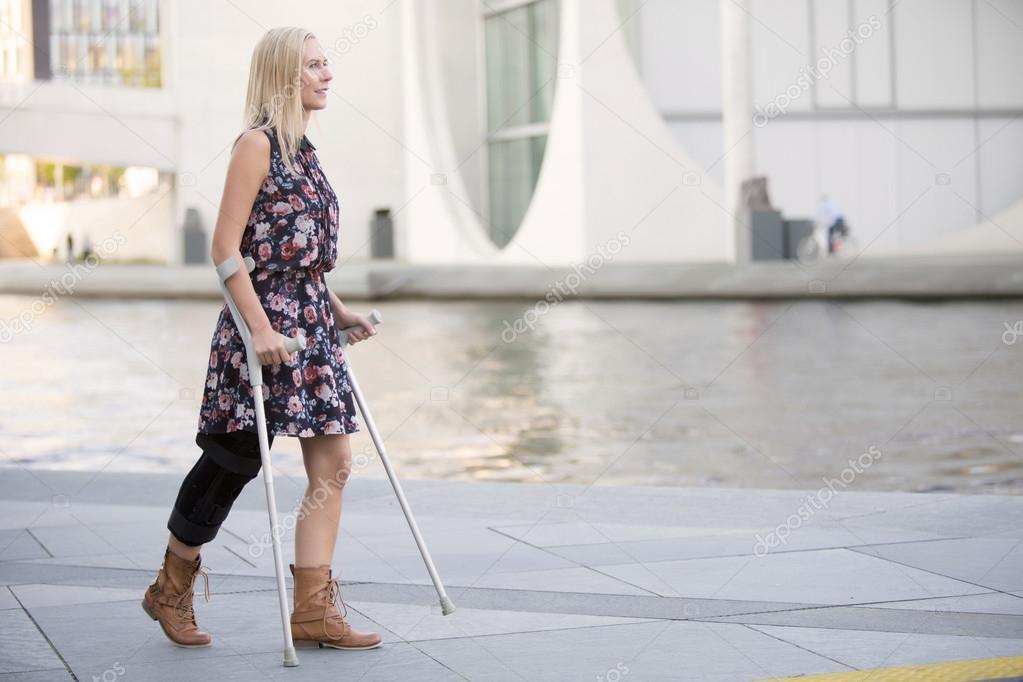crutches: (142, 26, 458, 669)
